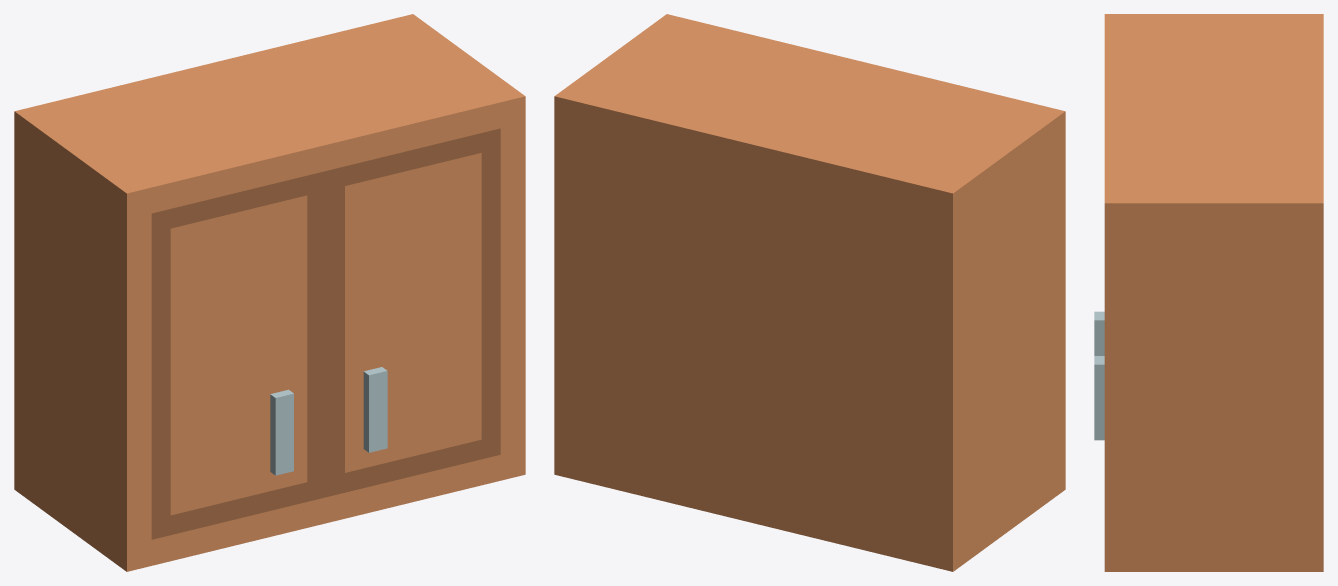
File: Kitchen Cabinet Upper Double.glb
3 renders of one model, left to right at view 1: azimuth 30°, elevation 25°; view 2: azimuth 150°, elevation 25°; view 3: azimuth 270°, elevation 25°, orthographic. The views are drawn at different scales.
Visible parts, largest first — view 1: kitchenCabinetUpperDouble(Clone), doorLeft, doorRight; view 2: kitchenCabinetUpperDouble(Clone); view 3: kitchenCabinetUpperDouble(Clone), doorRight, doorLeft.
Boxes of the visible parts, x1,y1,x2,y2 form: kitchenCabinetUpperDouble(Clone): [14, 14, 525, 571]; doorLeft: [151, 171, 326, 539]; doorRight: [326, 128, 500, 496]; kitchenCabinetUpperDouble(Clone): [554, 14, 1065, 571]; kitchenCabinetUpperDouble(Clone): [1104, 14, 1323, 571]; doorRight: [1094, 356, 1104, 440]; doorLeft: [1094, 311, 1104, 355].
Bounding box in the file's own units: 0.43 × 0.39 × 0.22.
